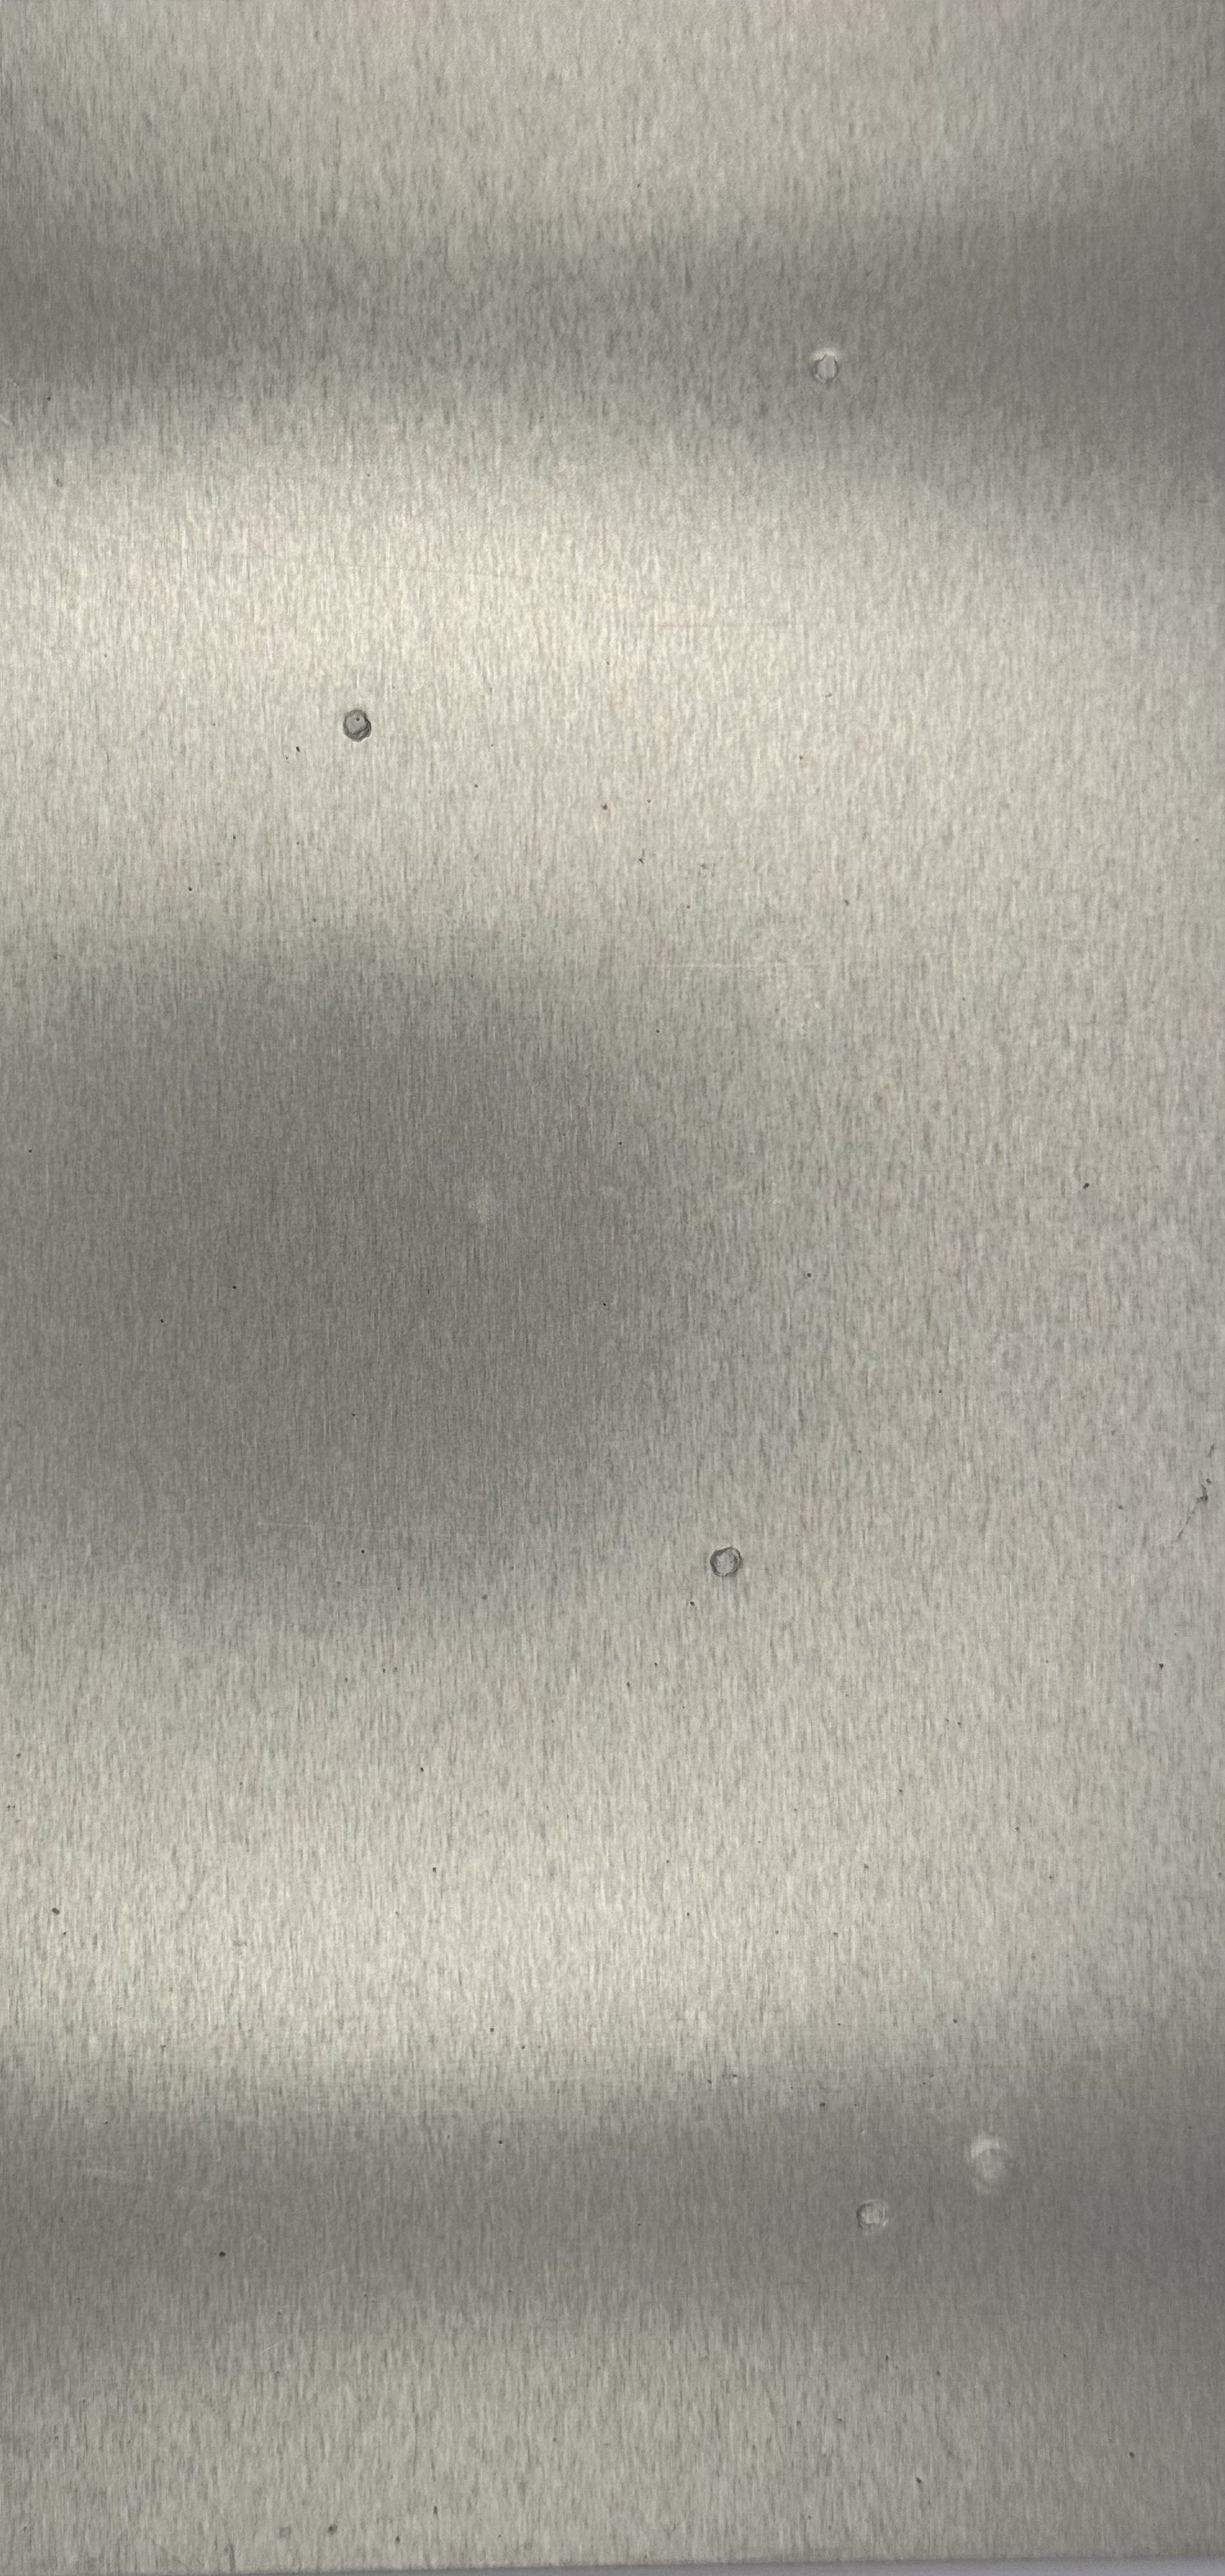Delle: (947, 2124, 1039, 2219), (440, 1165, 524, 1247), (686, 1526, 765, 1602), (839, 2178, 911, 2249), (795, 338, 862, 398), (327, 695, 388, 749)
